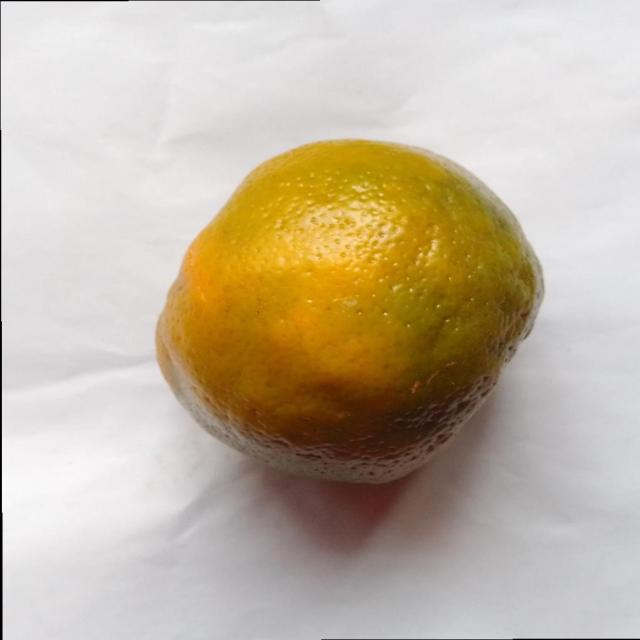fresh orange: (154, 136, 545, 486)
